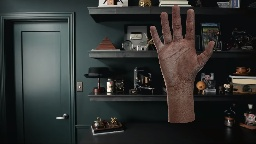Mano_aperta: (147, 3, 215, 88)
